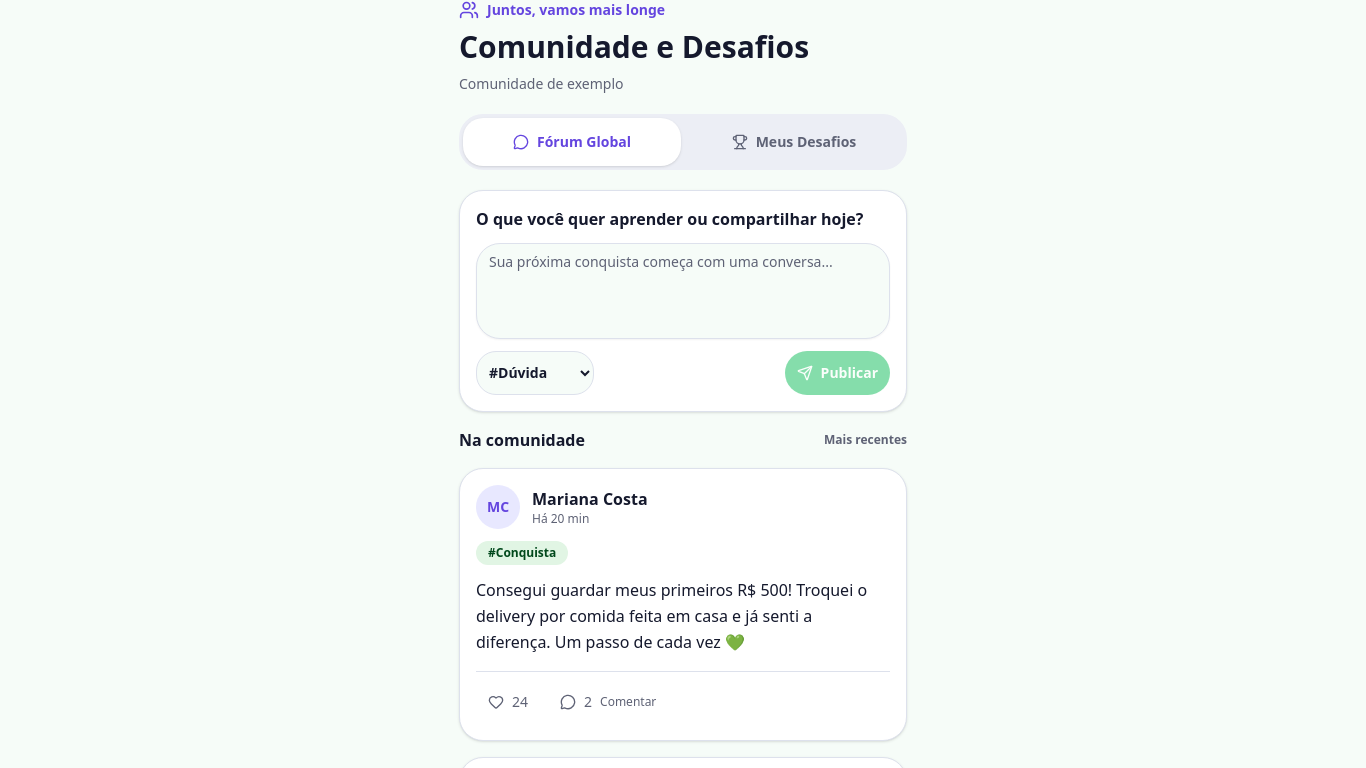
Community and challenges › finds friends, adds them and shows the invite option
Click the tab "Meus Desafios" at [794, 142], box [685,118,903,166]
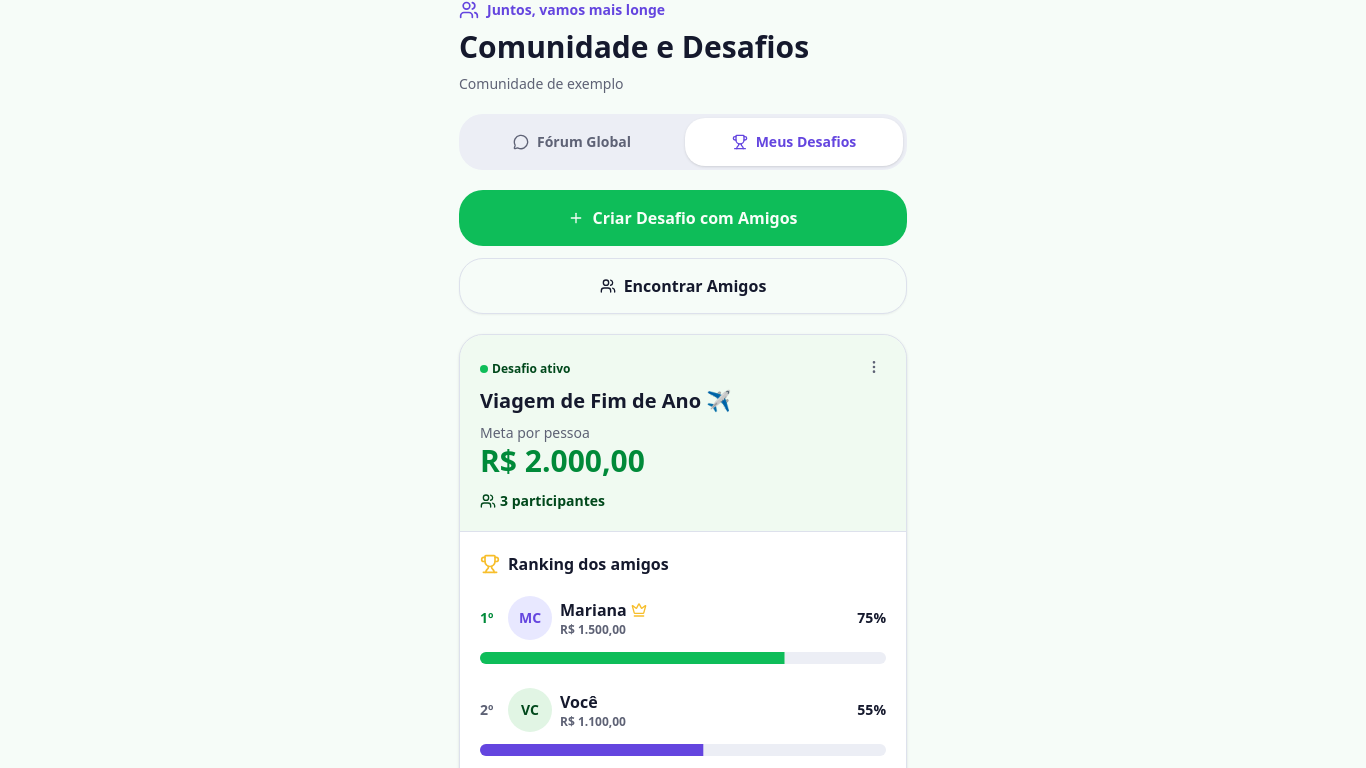
Click the button "Encontrar Amigos" at [683, 286], box [459,258,907,314]
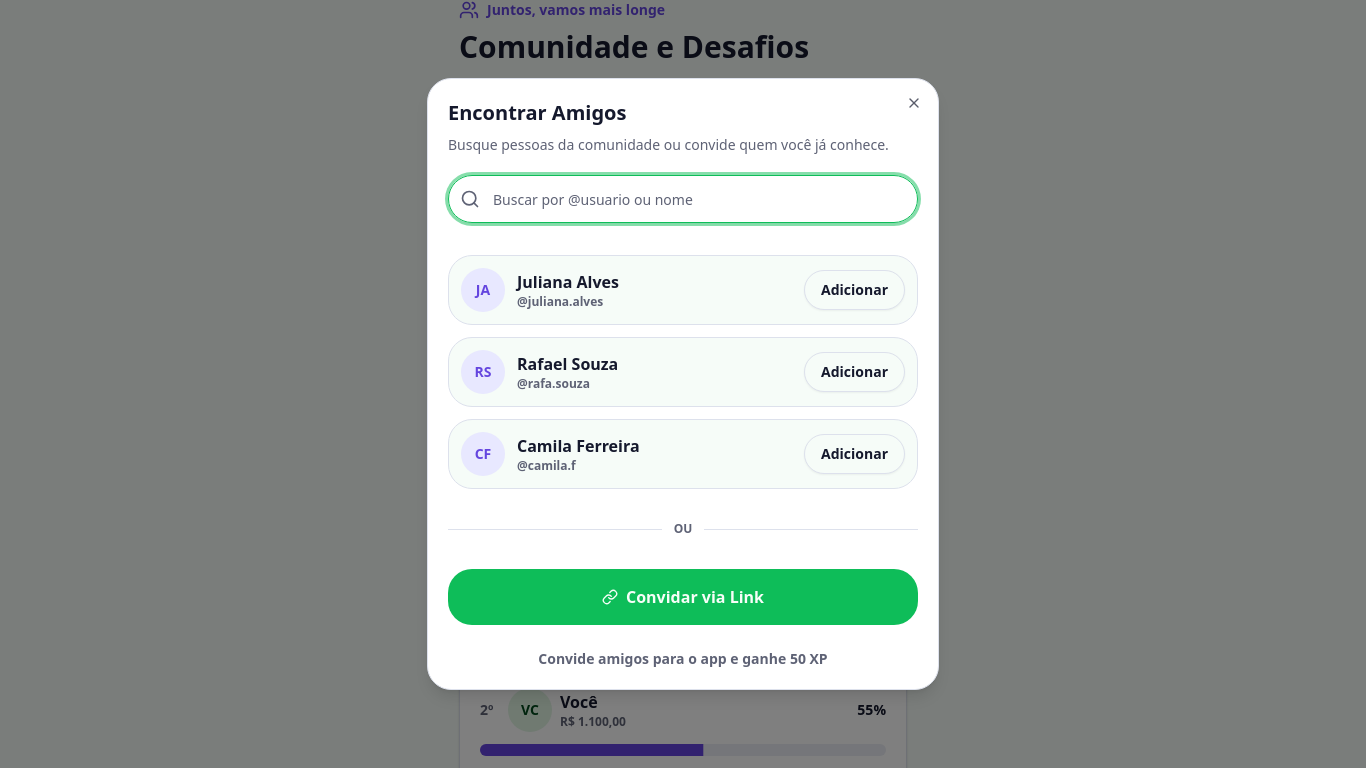
expect the field labelled "Buscar por @usuario ou nome" is shown: met
expect the text "@juliana.alves" is shown: met, box [517,293,603,310]
Type "camila" into the field labelled "Buscar por @usuario ou nome" at [683, 199], box [448,175,918,223]
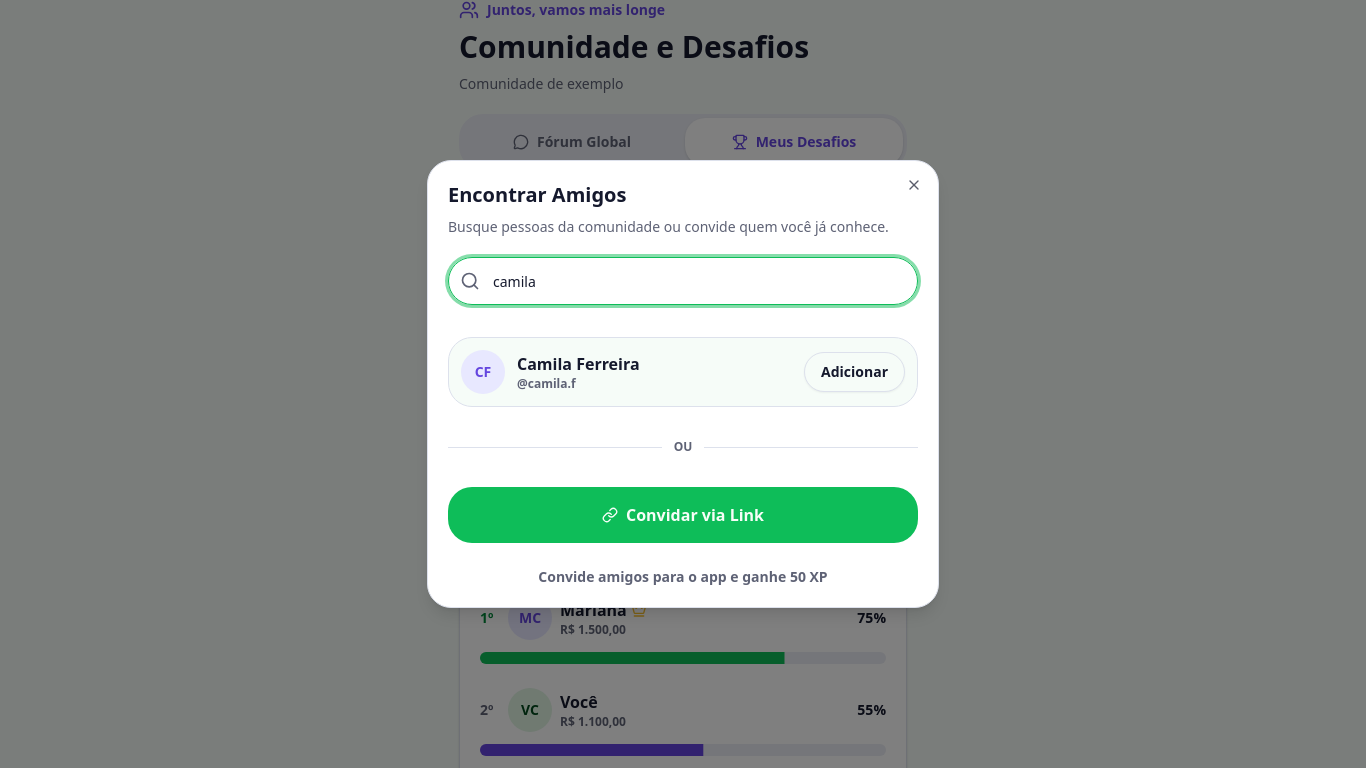
expect the text "@camila.f" is shown: met, box [517,375,576,392]
expect the text "@juliana.alves" is gone: met
Click the button "Adicionar" at [855, 372], box [804,352,905,392]
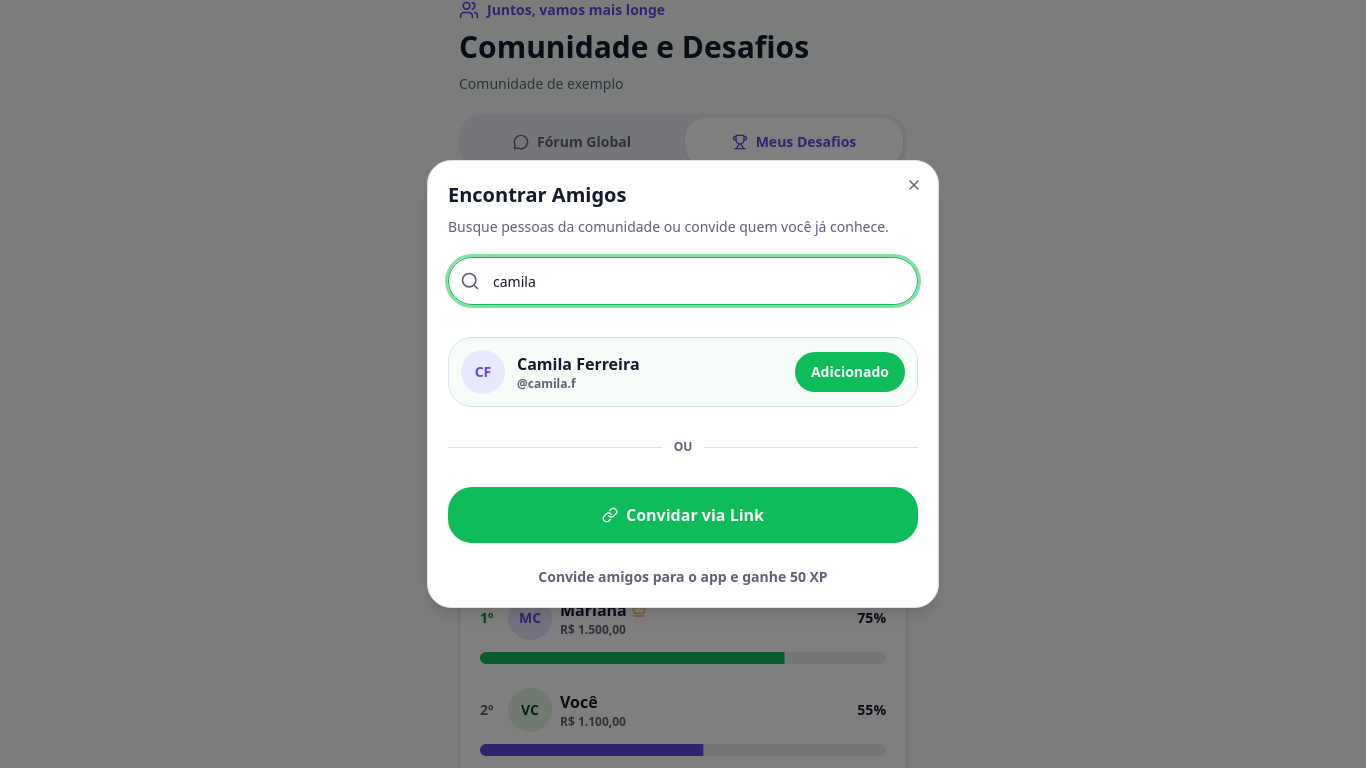
expect the button named "Adicionar" reads "Adicionado": met
Click the button named "Adicionar" at [850, 372], box [795,352,905,392]
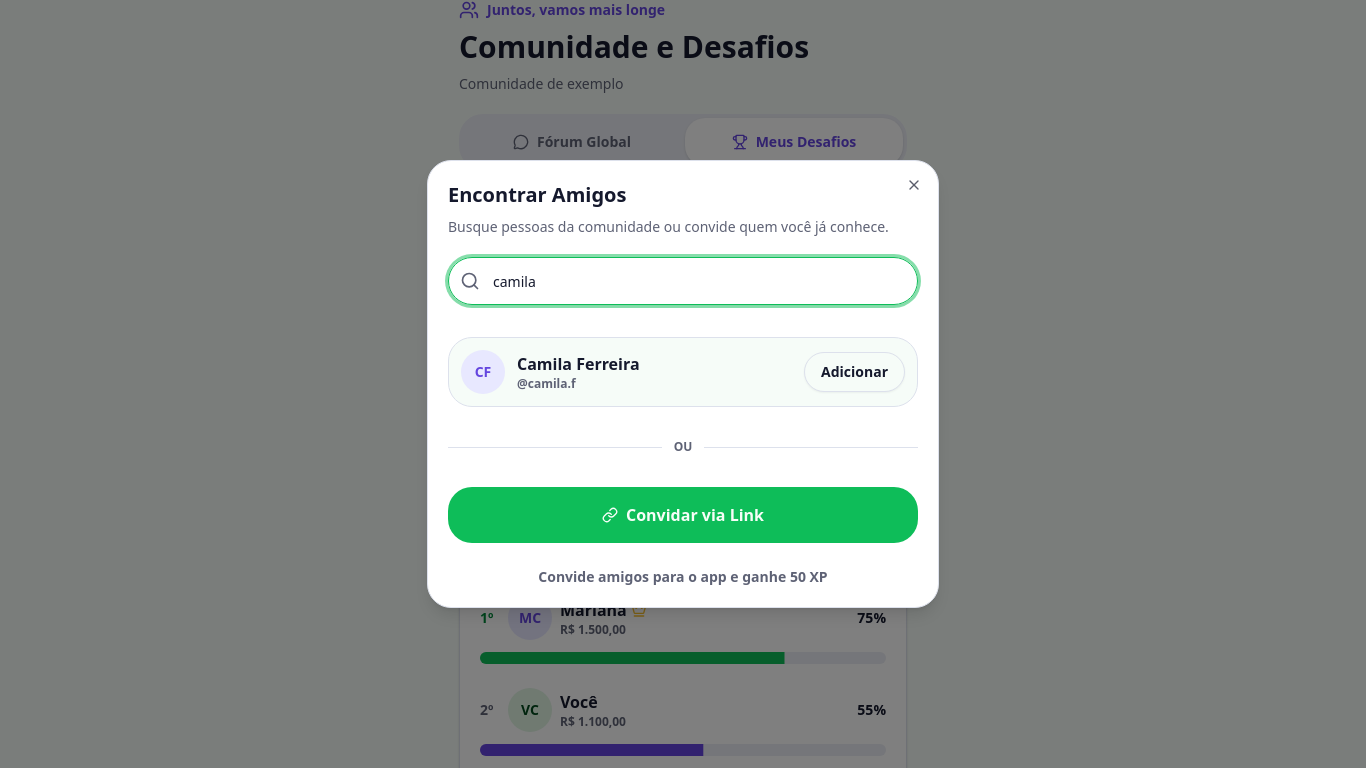
expect the text "OU" is shown: met, box [674,439,692,455]
expect the button "Convidar via Link" is shown: met, box [448,487,918,543]
expect the button "Adicionar" is shown: met, box [804,352,905,392]
